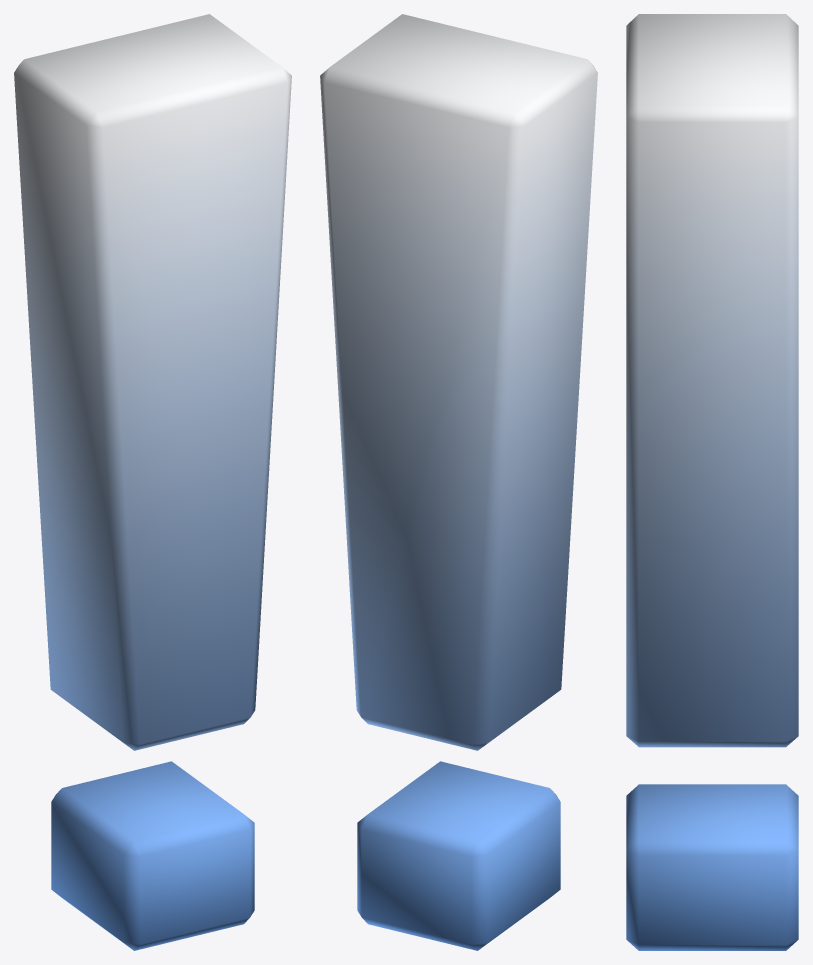
The model's file is Icon_Exclamation_01.fbx.
The picture shows the model from 3 angles, left to right: view 1: azimuth 30°, elevation 25°; view 2: azimuth 150°, elevation 25°; view 3: azimuth 270°, elevation 25°; orthographic projection.
Visible parts, largest first — view 1: Icon_Exclamation_01; view 2: Icon_Exclamation_01; view 3: Icon_Exclamation_01.
Part boxes in pixels (left/top/right/bottom): Icon_Exclamation_01: left=14, top=14, right=291, bottom=950; Icon_Exclamation_01: left=320, top=14, right=597, bottom=950; Icon_Exclamation_01: left=626, top=14, right=798, bottom=950.
Bounding box in the file's own units: 18.69 × 73.62 × 13.32.
